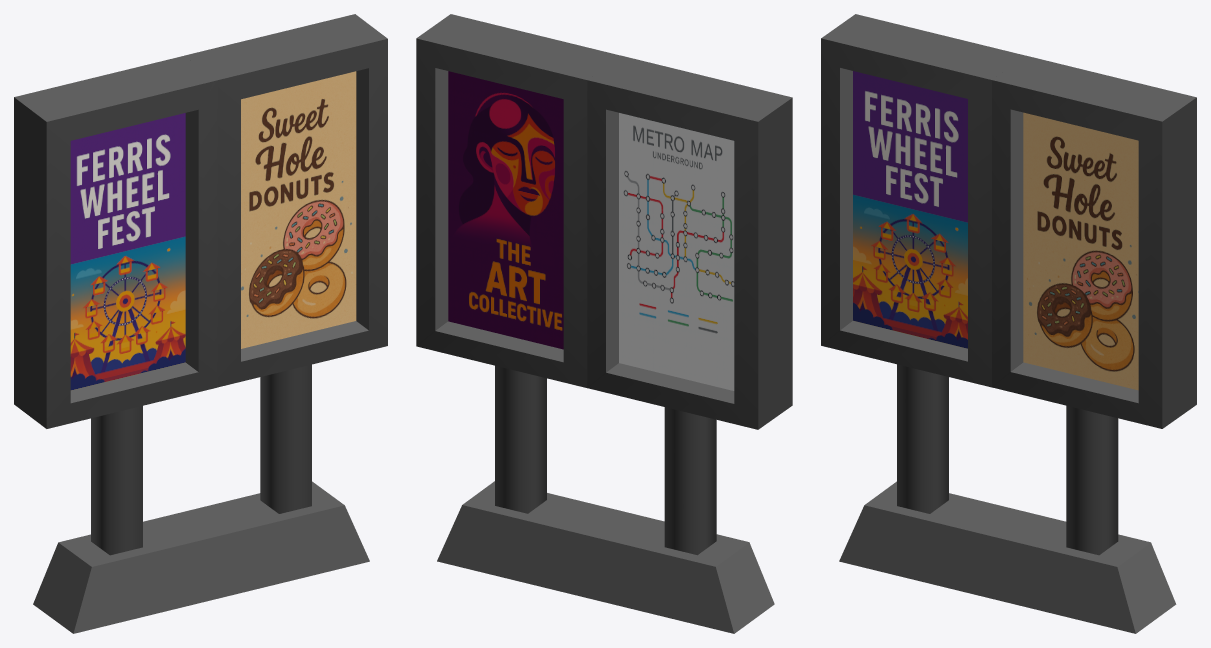
Rendered from Billboard2S.fbx.
3 renders of one model, left to right at view 1: azimuth 30°, elevation 25°; view 2: azimuth 150°, elevation 25°; view 3: azimuth 330°, elevation 25°, orthographic.
Parts seen in each view (by area): view 1: Billbord2S.001; view 2: Billbord2S.001; view 3: Billbord2S.001.
Part boxes in pixels (<box>): Billbord2S.001: <box>14,14,387,633</box>; Billbord2S.001: <box>416,14,792,633</box>; Billbord2S.001: <box>821,14,1196,633</box>.
Size of the model in its own units: 0.8109 by 1.17 by 0.166.
